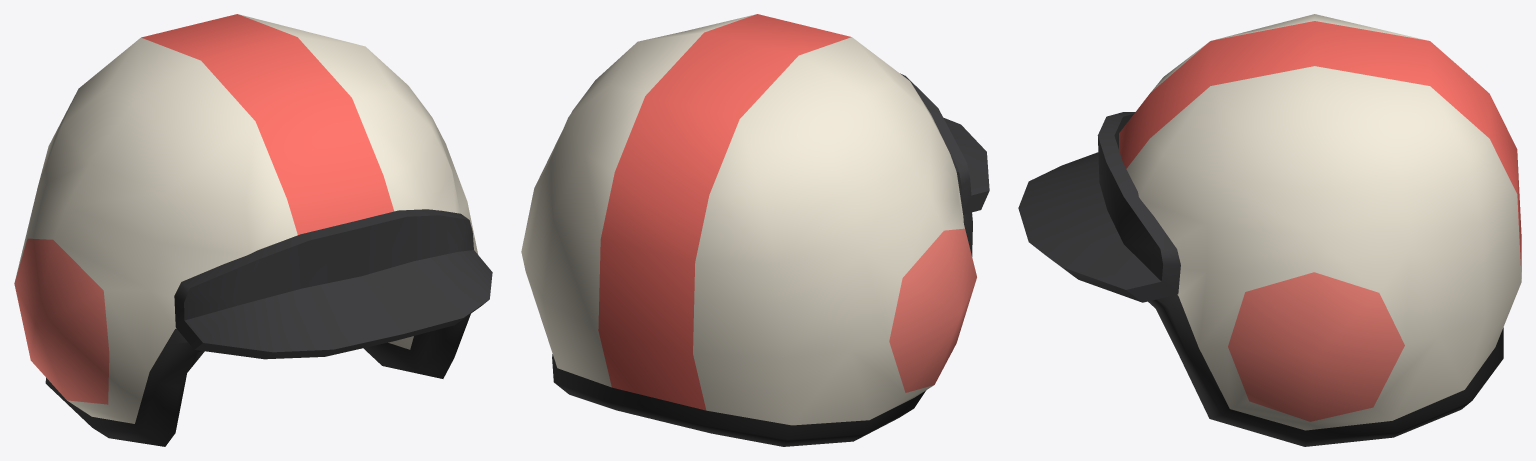
The model's file is Headgear_51.fbx.
The picture shows the model from 3 angles, left to right: view 1: azimuth 30°, elevation 25°; view 2: azimuth 150°, elevation 25°; view 3: azimuth 270°, elevation 25°; orthographic projection. The views are drawn at different scales.
Parts seen in each view (by area): view 1: Headgear_51; view 2: Headgear_51; view 3: Headgear_51.
Part boxes in pixels (<box>): Headgear_51: <box>14,14,492,446</box>; Headgear_51: <box>521,14,989,446</box>; Headgear_51: <box>1018,14,1521,446</box>.
Size of the model in its own units: 72.83 by 56.81 by 77.3.
